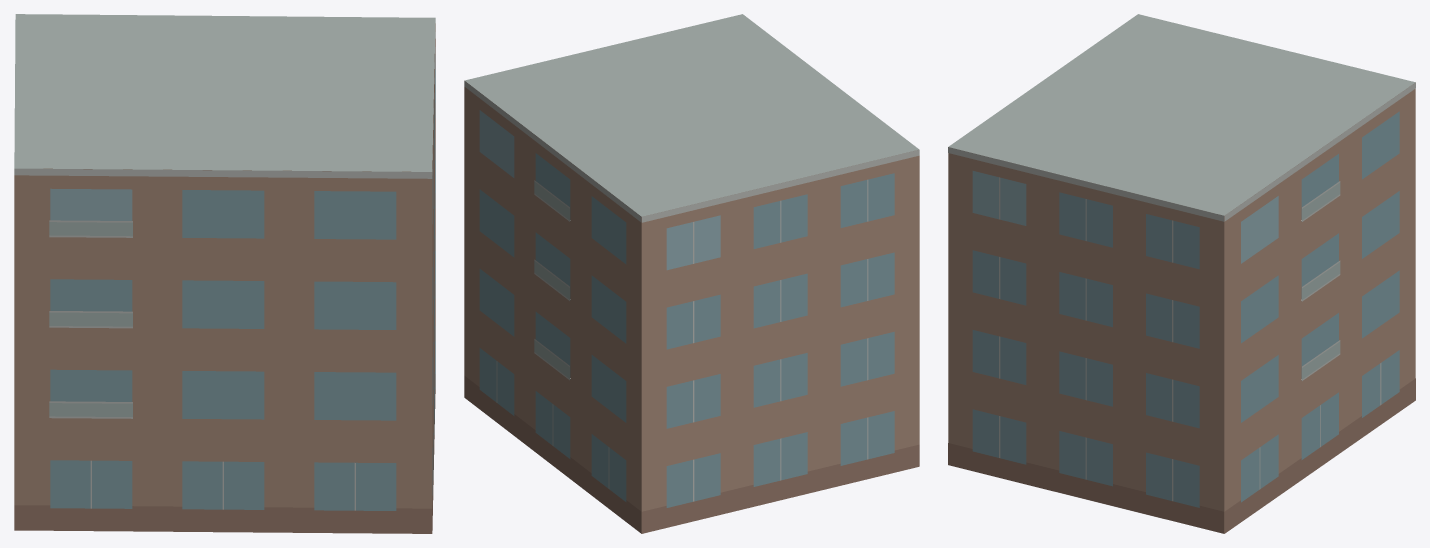
Rendered from survey-upis-32915526.glb.
The picture shows the model from 3 angles, left to right: view 1: azimuth 30°, elevation 25°; view 2: azimuth 150°, elevation 25°; view 3: azimuth 270°, elevation 25°; orthographic projection. The views are drawn at different scales.
Parts seen in each view (by area): view 1: survey-upis-32915526.tmp; view 2: survey-upis-32915526.tmp; view 3: survey-upis-32915526.tmp.
Part boxes in pixels (box(x1,y1,x2,y2)): survey-upis-32915526.tmp: box(14, 14, 435, 533); survey-upis-32915526.tmp: box(464, 14, 919, 533); survey-upis-32915526.tmp: box(948, 14, 1415, 533).
Bounding box in the file's own units: 17.42 × 12.8 × 17.06.
